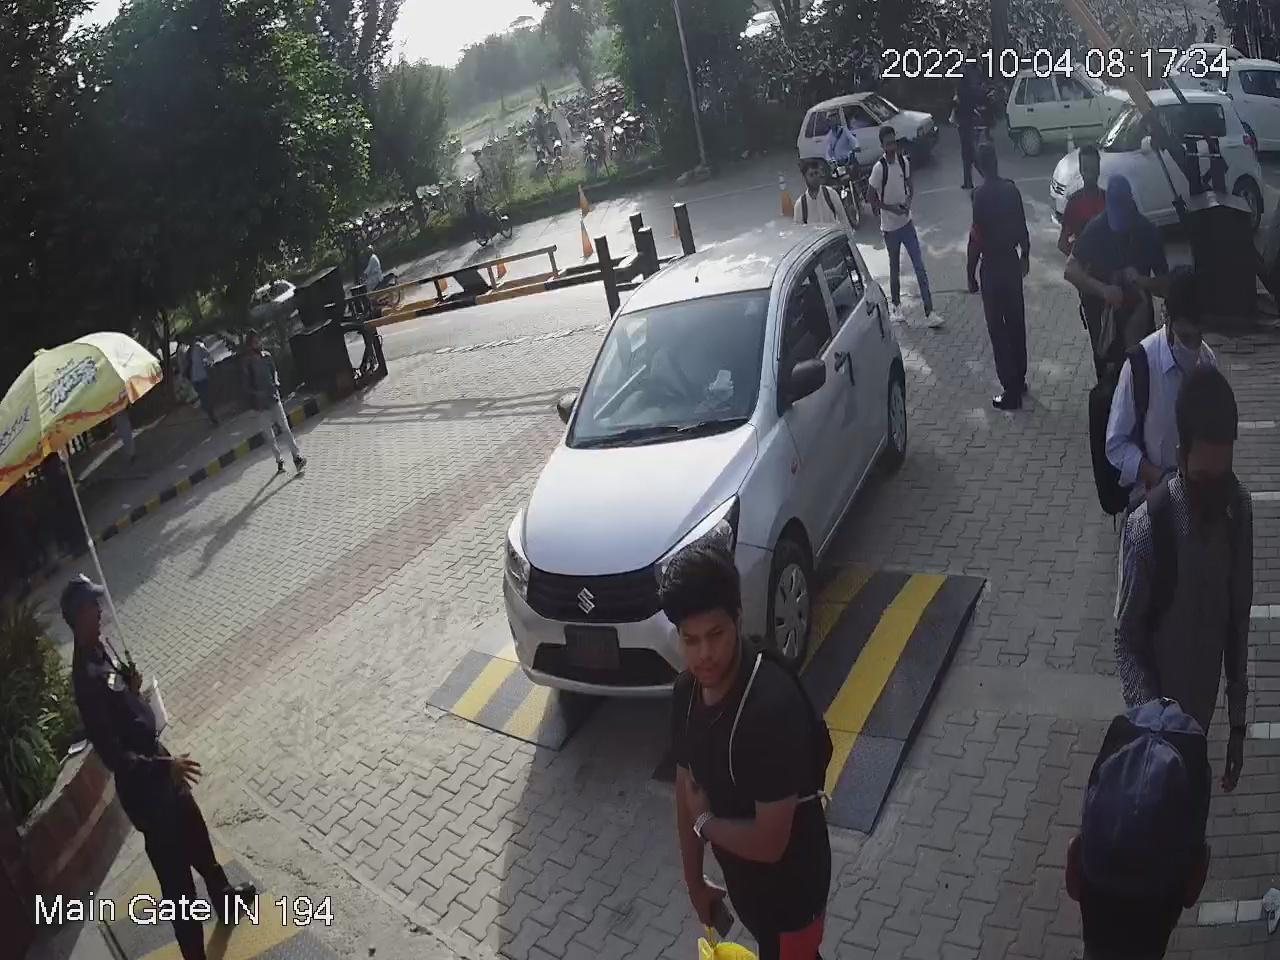windshield: (565, 282, 778, 445)
